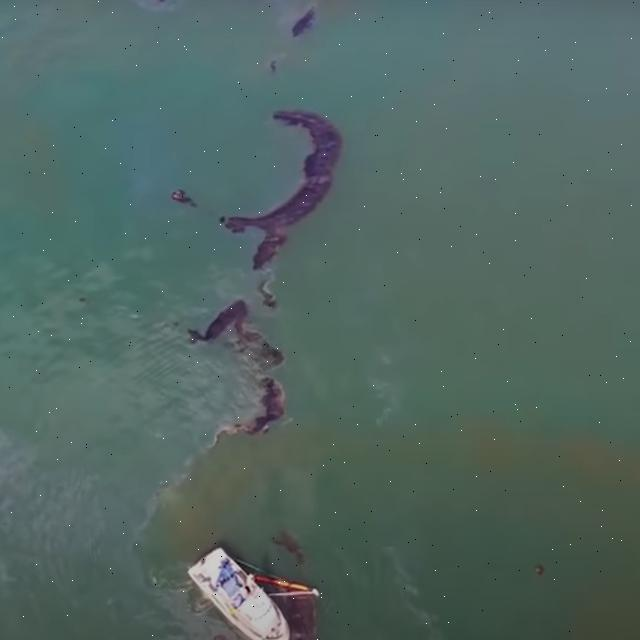truecolor: (221, 110, 343, 270), (188, 300, 284, 369), (216, 379, 286, 442), (256, 576, 319, 640), (293, 6, 314, 36), (171, 189, 197, 208)
